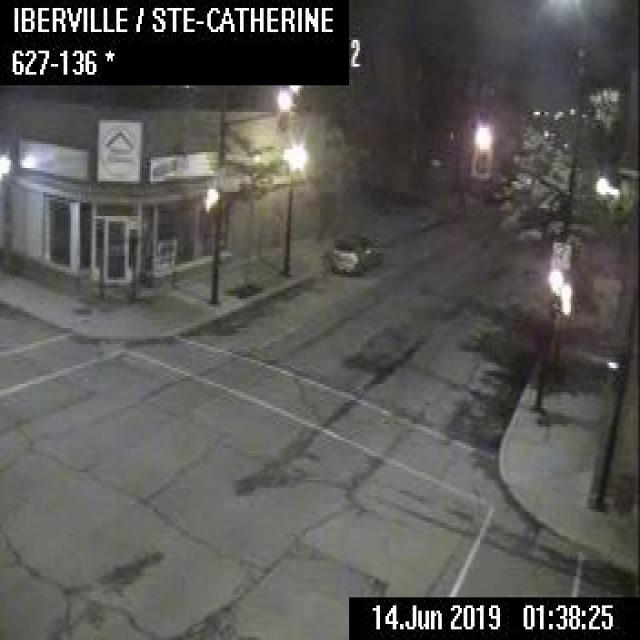vehicle: (325, 232, 380, 275)
